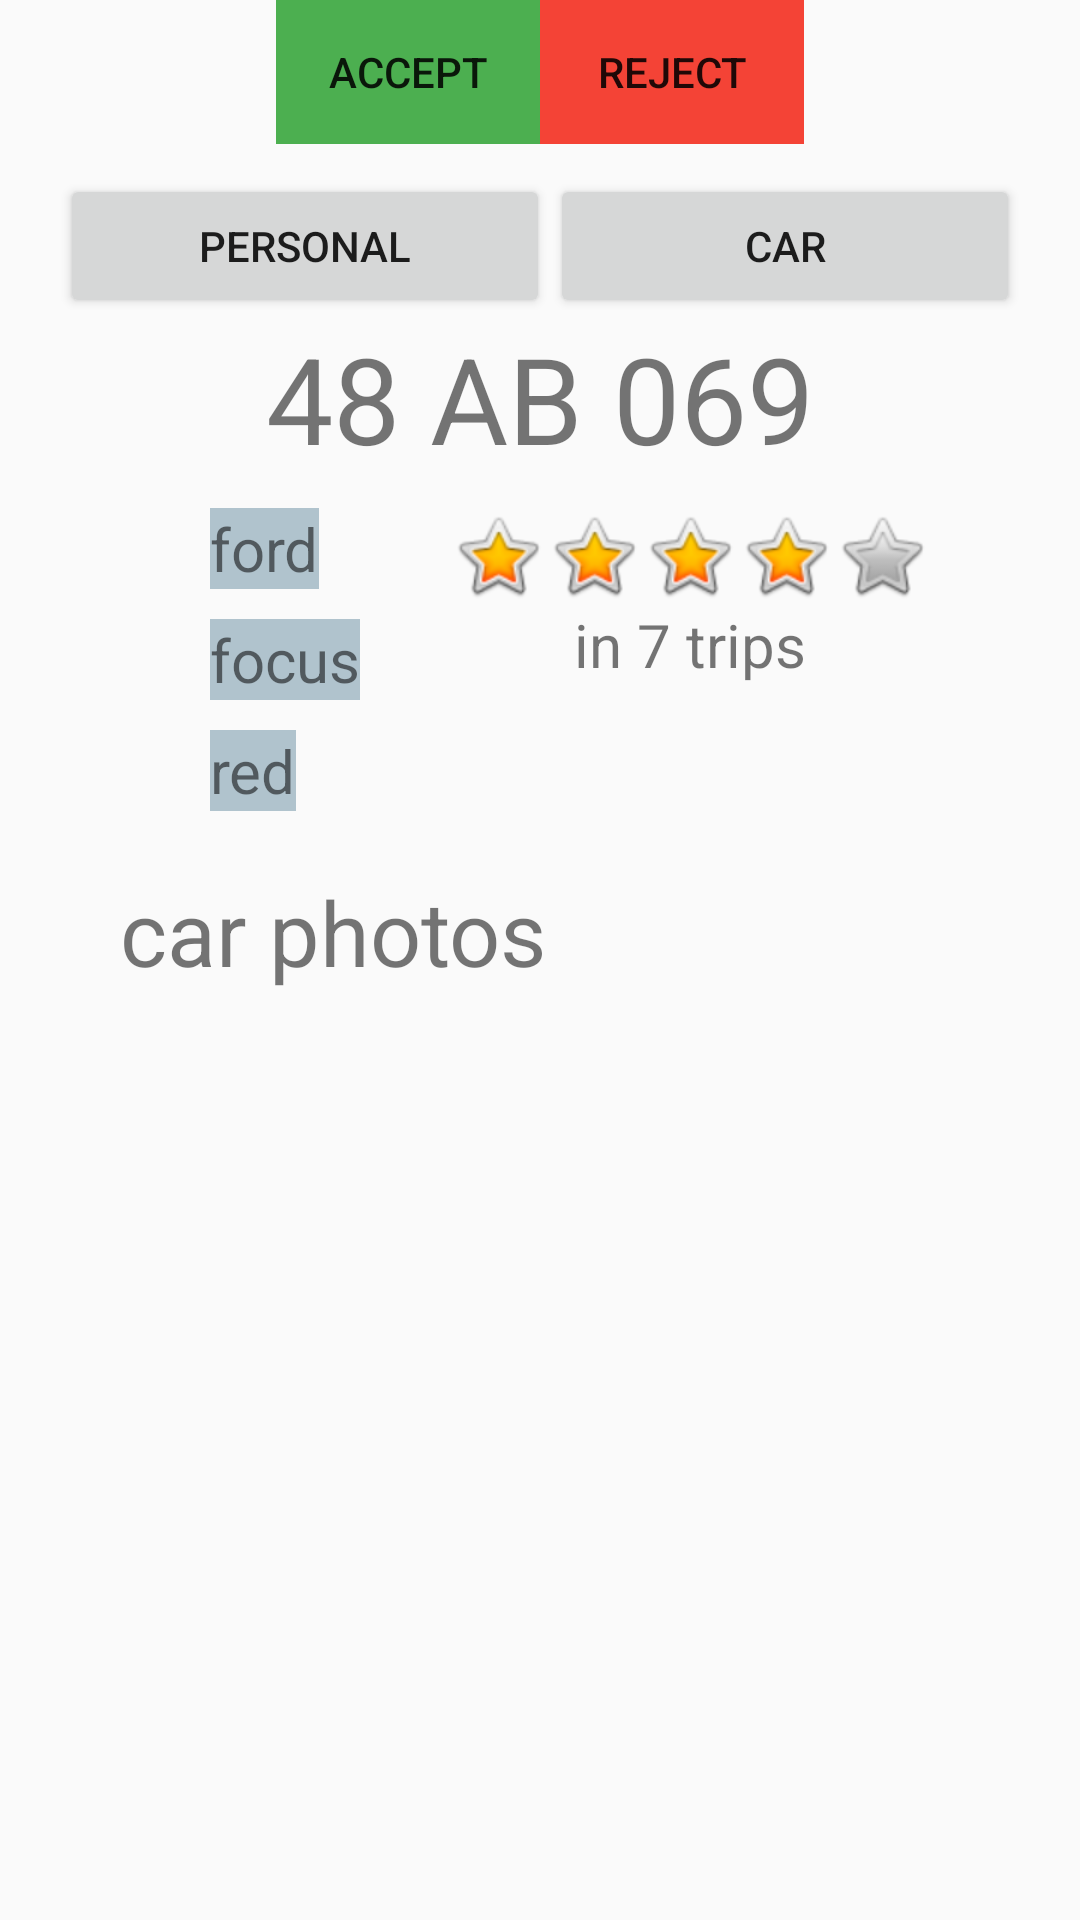

Named icons in this screenshot (1080px x 1920px) and their bounding boxes, bbox=[x1, y1, x2, y2]:
star off: bbox=[843, 518, 923, 596]
star on: bbox=[459, 518, 539, 596], bbox=[555, 518, 635, 596], bbox=[651, 518, 731, 596], bbox=[747, 518, 827, 596]
